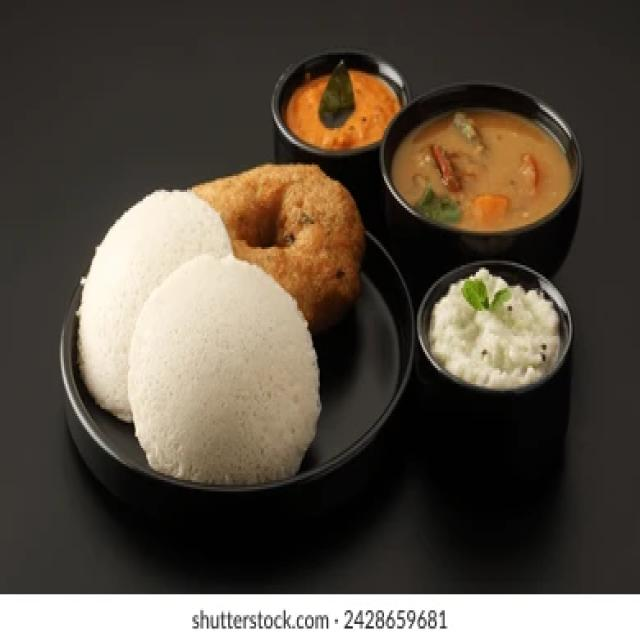IDLI: (128, 254, 320, 482), (77, 190, 230, 418)
MEDU VADA: (192, 165, 363, 331)
